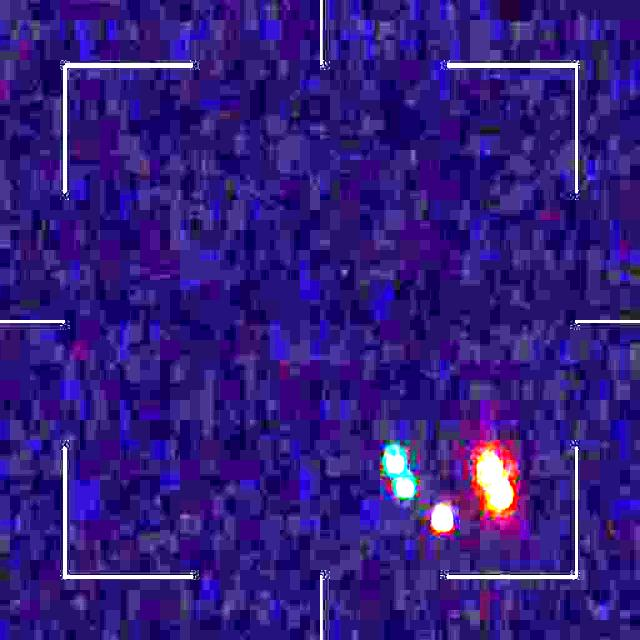bird: (386, 445, 512, 535)
